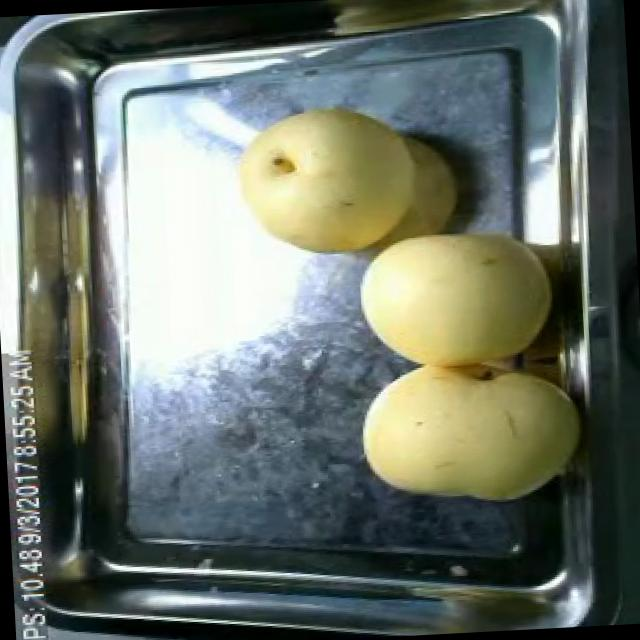Fruit: (222, 89, 468, 262), (350, 346, 596, 518), (344, 220, 566, 384)
